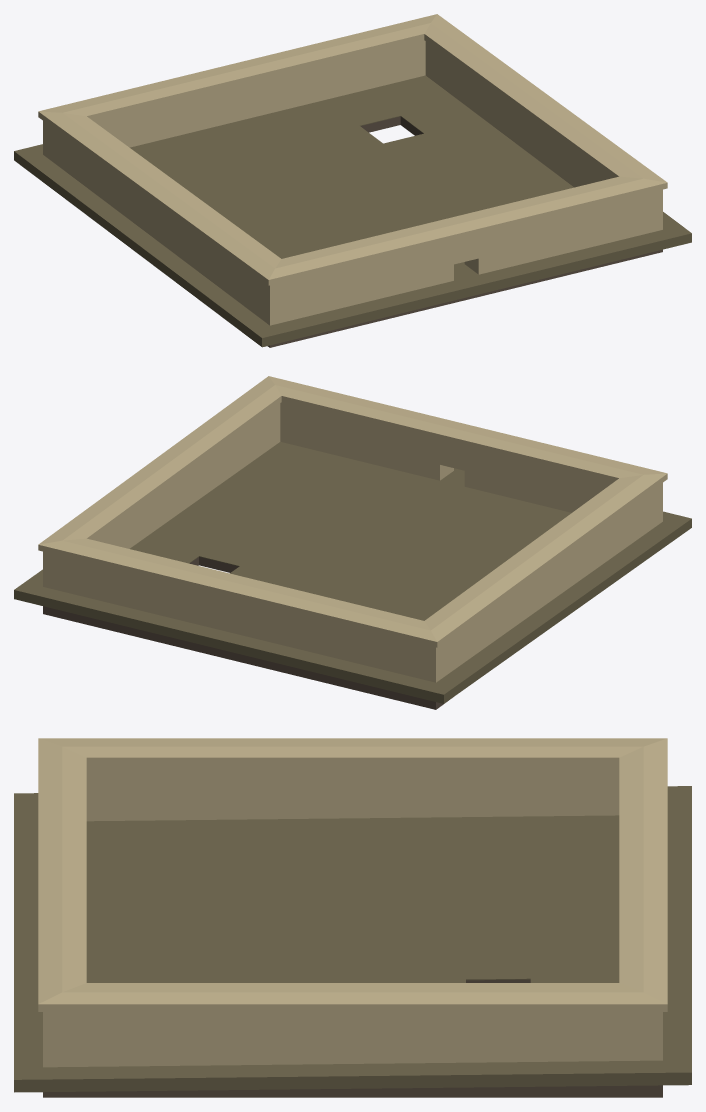
File: rpg-mansion-flat-parapet-chimney-host-01.glb
3 views of the same model, one above another, from view 1: azimuth 30°, elevation 25°; view 2: azimuth 150°, elevation 25°; view 3: azimuth 270°, elevation 25° (orthographic). The views are drawn at different scales.
Parts seen in each view (by area): view 1: rpg-mansion-flat-parapet-chimney-host-01; view 2: rpg-mansion-flat-parapet-chimney-host-01; view 3: rpg-mansion-flat-parapet-chimney-host-01.
Boxes of the visible parts, x1,y1,x2,y2 form: rpg-mansion-flat-parapet-chimney-host-01: (14,14,691,347); rpg-mansion-flat-parapet-chimney-host-01: (14,376,691,709); rpg-mansion-flat-parapet-chimney-host-01: (14,738,691,1097).
Size of the model in its own units: 4.2 by 0.665 by 4.2.
